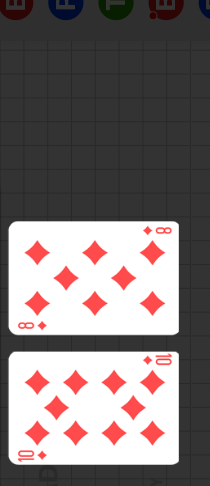10D: (17, 449, 49, 462)
8D: (141, 225, 173, 236)
